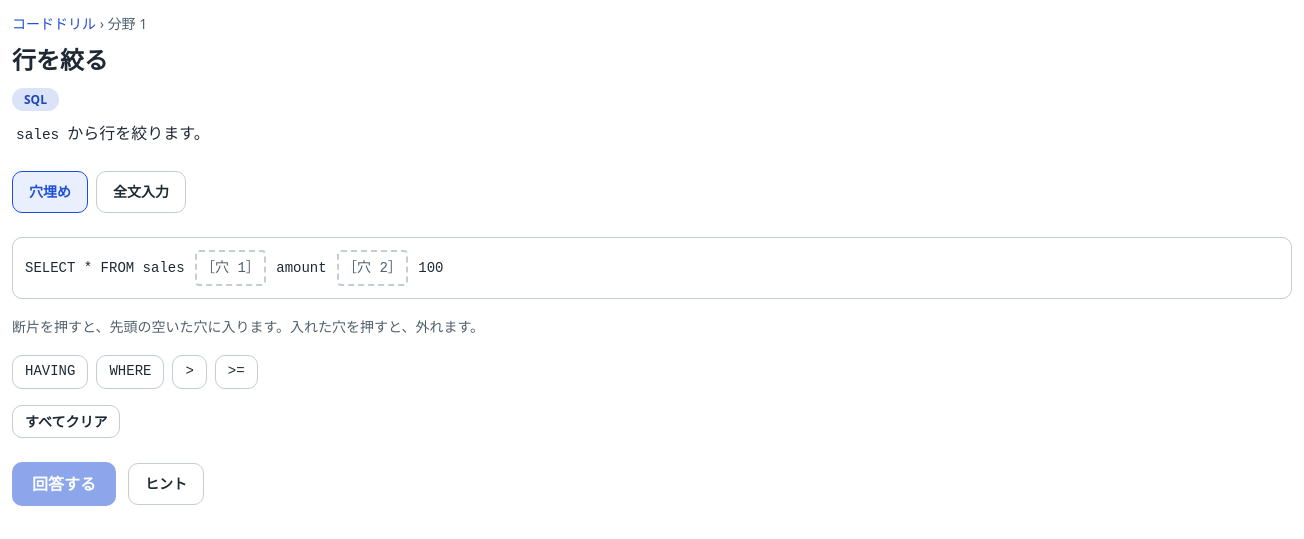
it: CodeDrillPlayer(全文入力) › 穴埋めと全文入力_切り替えても入力をそれぞれ保つ
The width and height of the screenshot is (1304, 539).
Click the button "HAVING" at (50, 372), box [12,355,88,389]
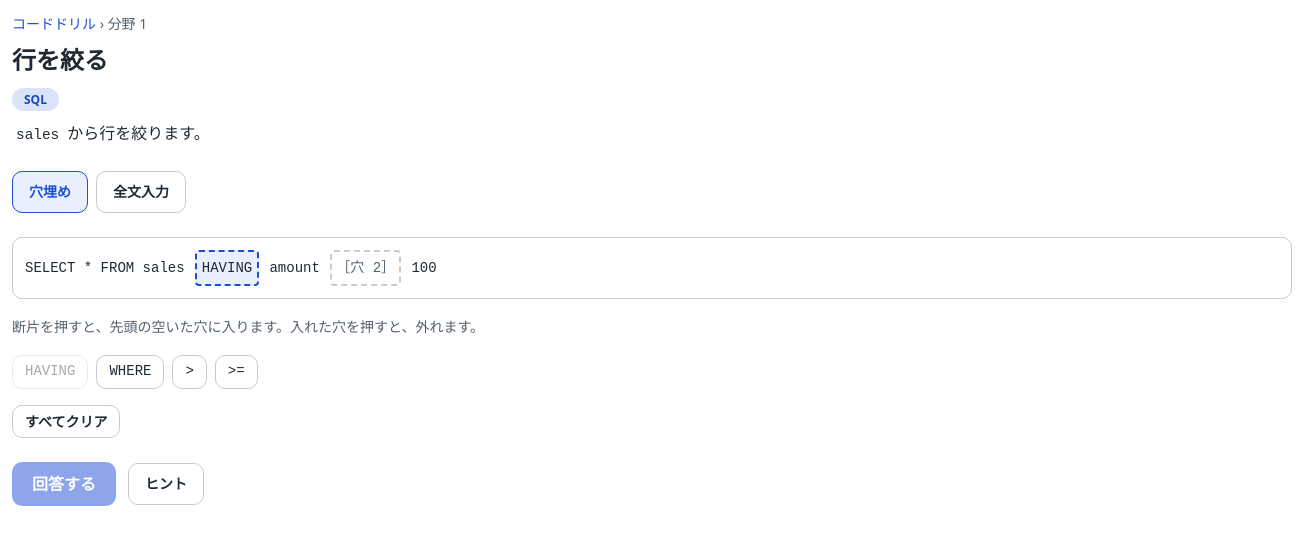
Click the tab "全文入力" at (141, 192), box [96,171,186,213]
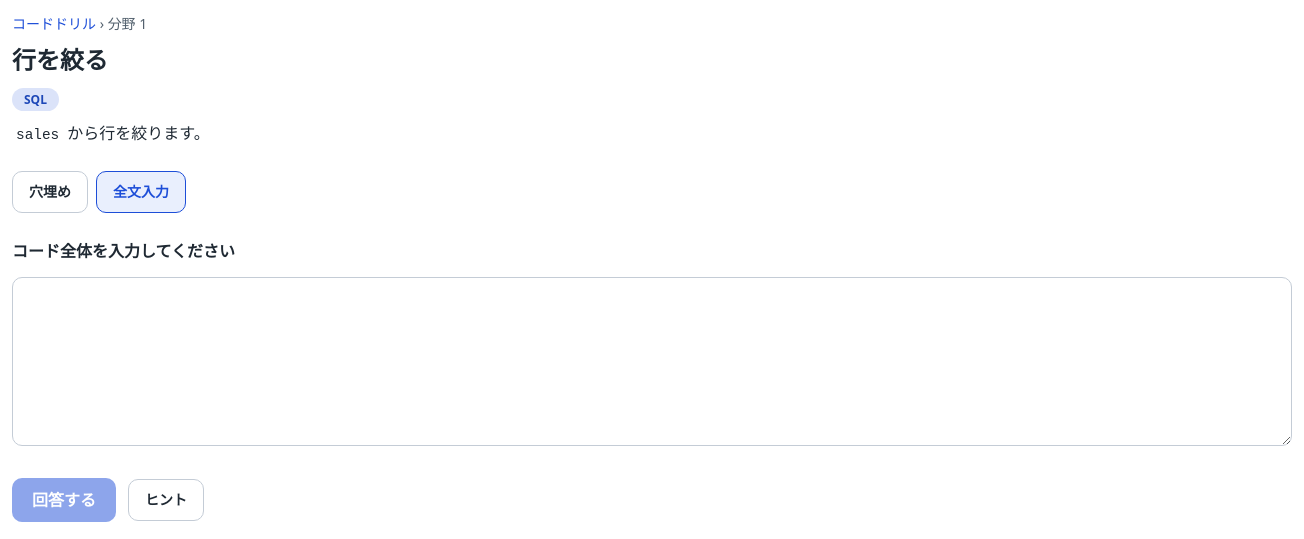
Type "SELECT 1" into the text box labelled "コード全体を入力してください" at (652, 361), box [12,277,1292,446]
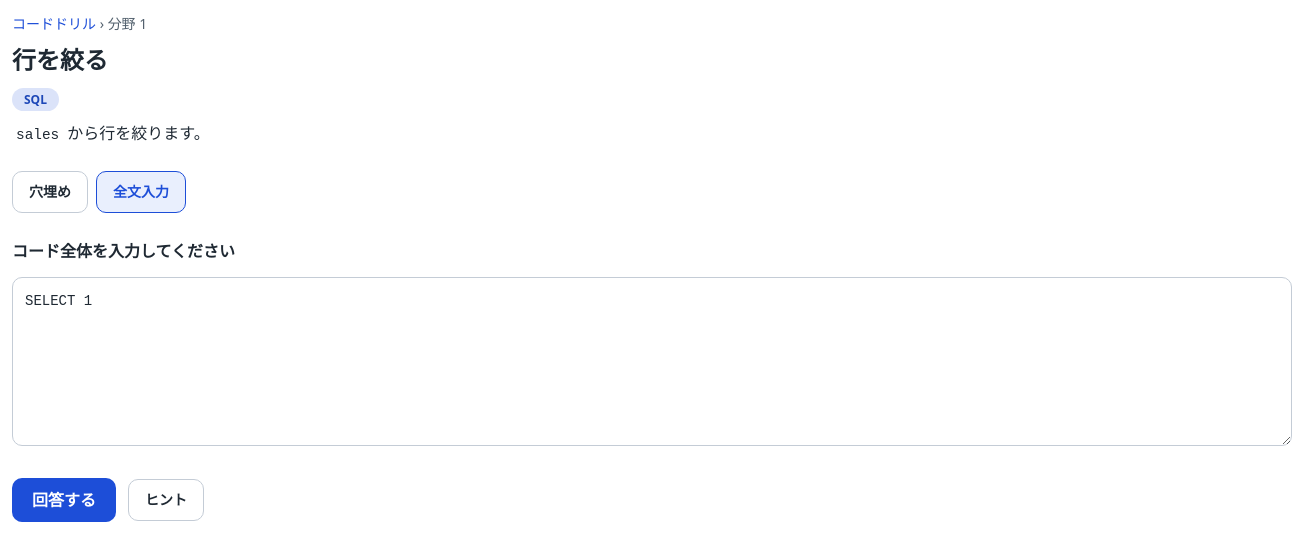
Click the tab "穴埋め" at (50, 192), box [12,171,88,213]
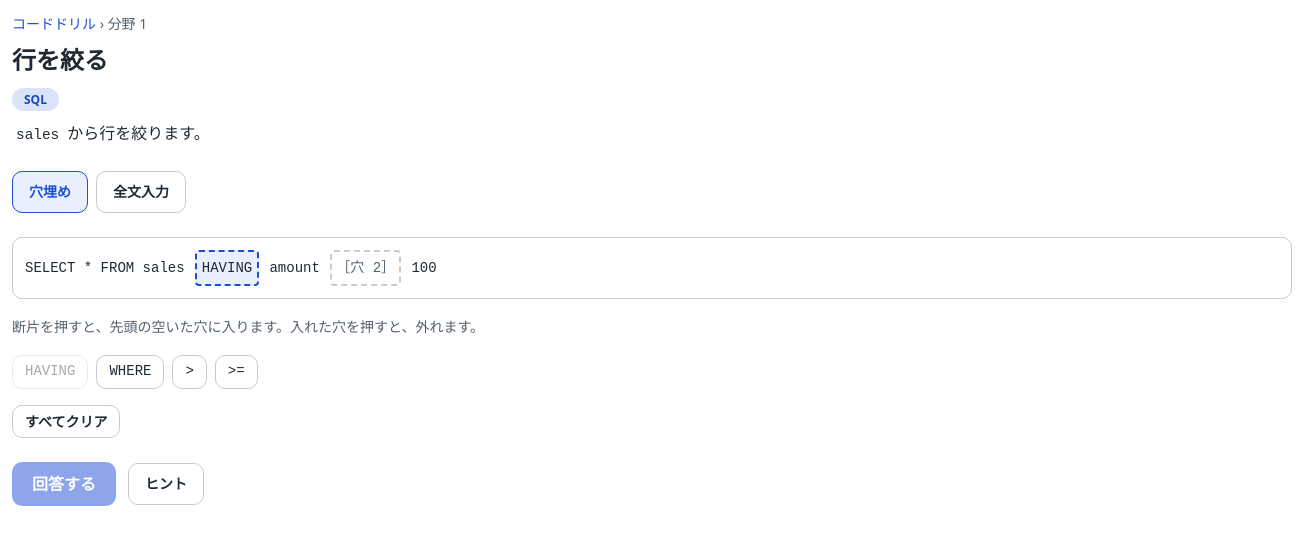
Result: the button with aria-label "穴 1: HAVING" is shown at [195,250,259,286]
Click the tab "全文入力" at (141, 192), box [96,171,186,213]
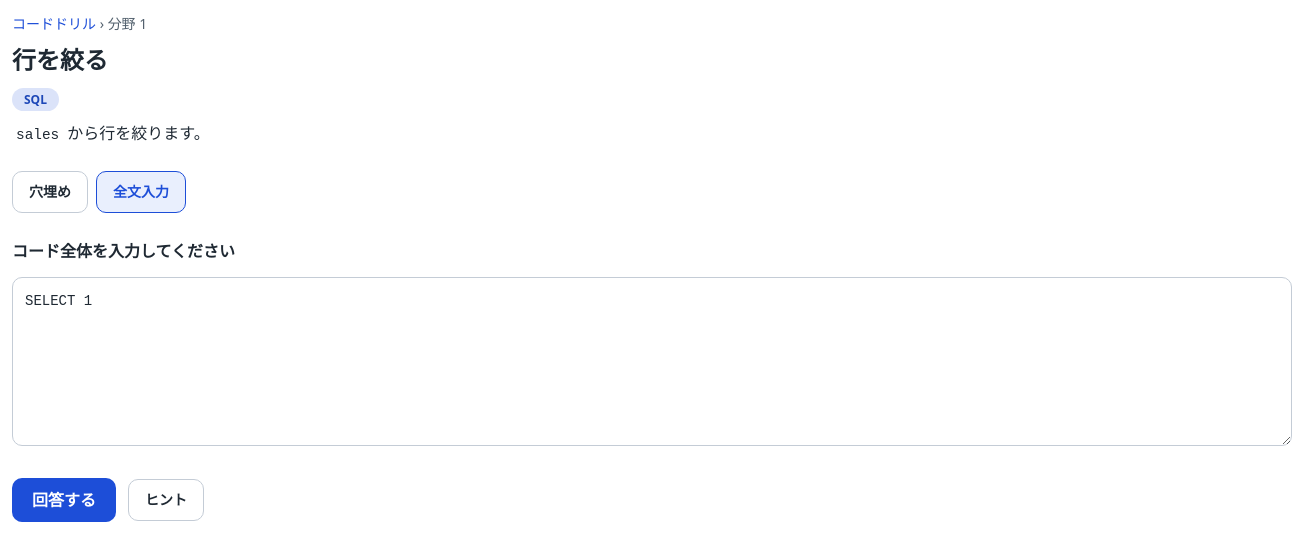
Result: the text box labelled "コード全体を入力してください" holds "SELECT 1" at [12,277,1292,446]
